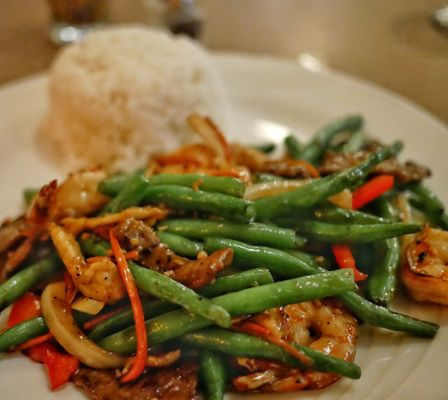pizza: (109, 224, 150, 383), (352, 174, 396, 210)
